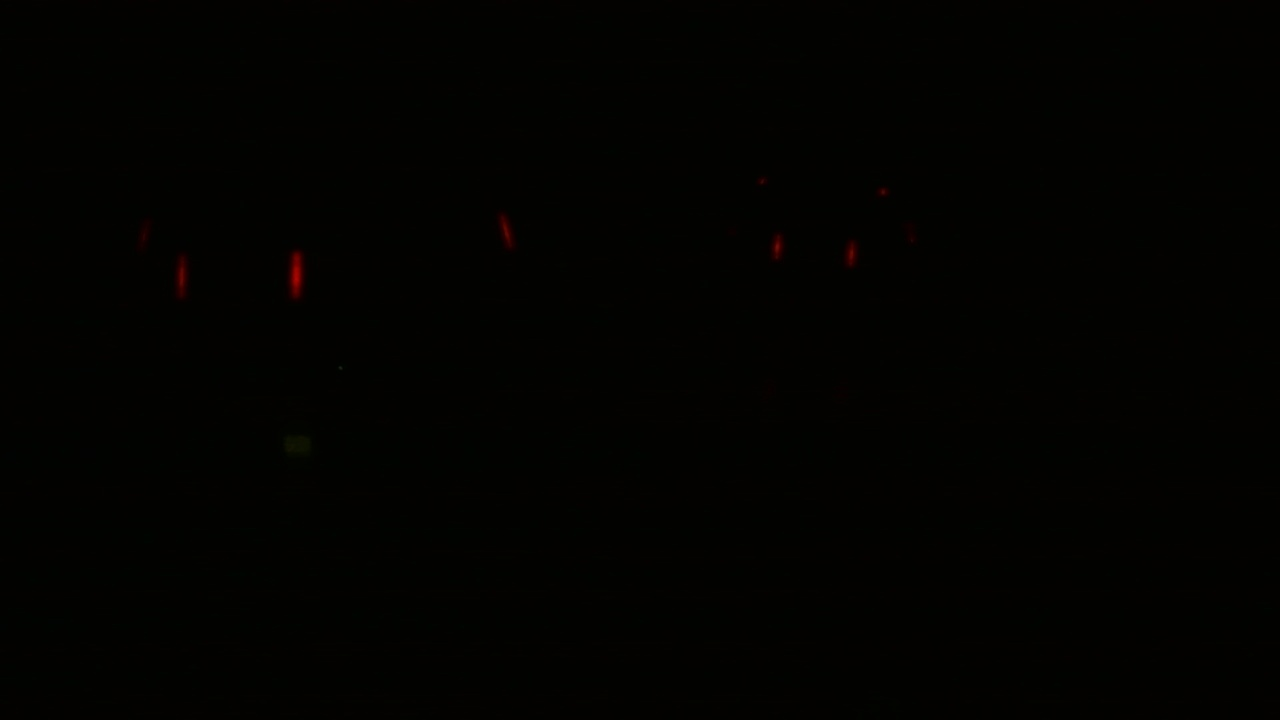pair1: (171, 247, 304, 307), (766, 233, 861, 261)
